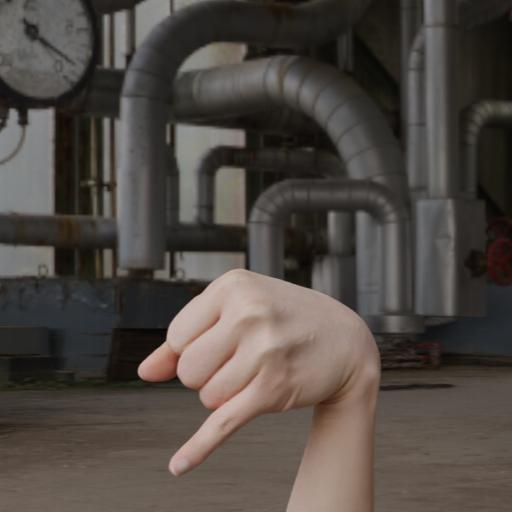J: (127, 256, 391, 483)
